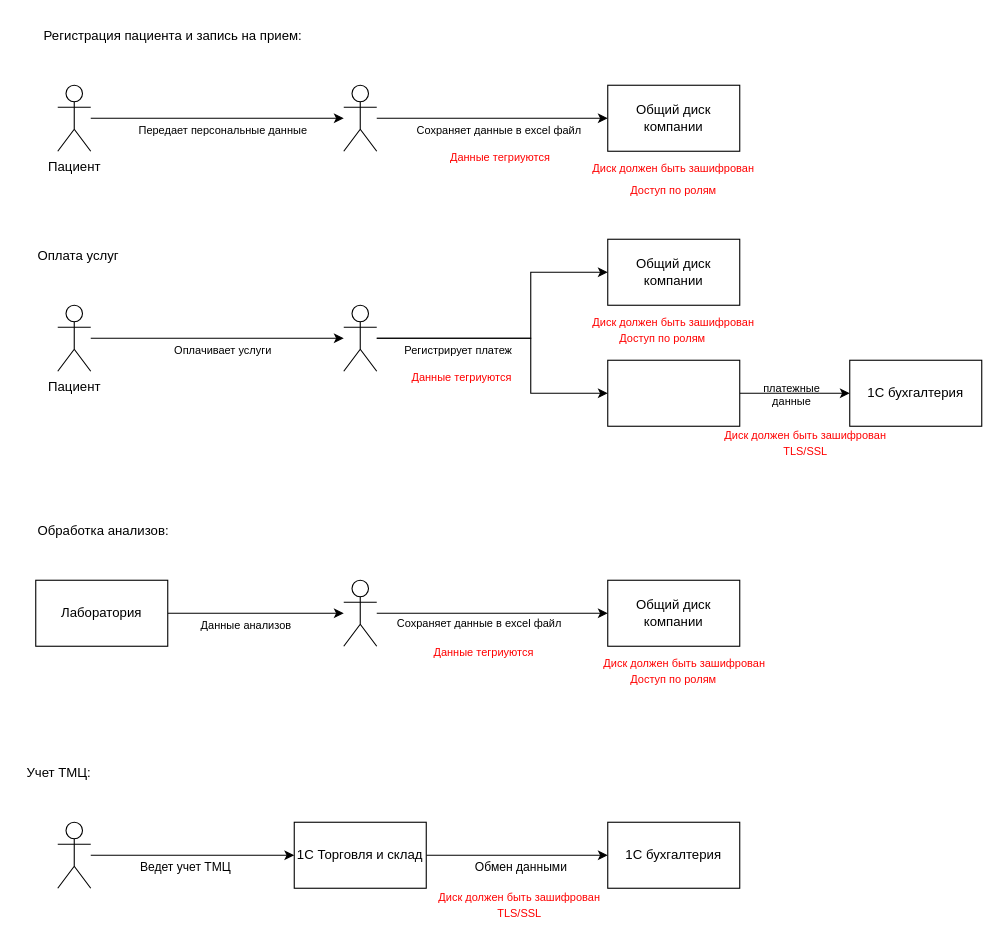
Some shapes in this 1001 by 939 pixel diagram are drawn without their labels. The centre of each missing label's shape, as x and y in pixels:
"Кассир" belongs at (x=360, y=337).
"ККМ" belongs at (x=673, y=392).
"Сотрудник" belongs at (x=360, y=612).
"Сотрудник ресепшена" belongs at (x=360, y=117).
"Сотрудник склада" belongs at (x=74, y=854).
